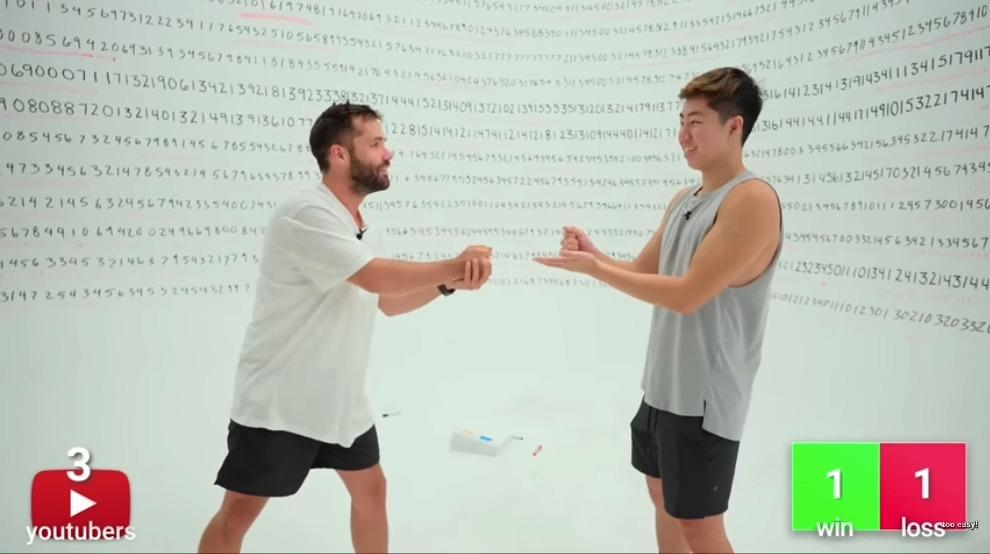Rock: (459, 240, 491, 280), (561, 221, 591, 254)
